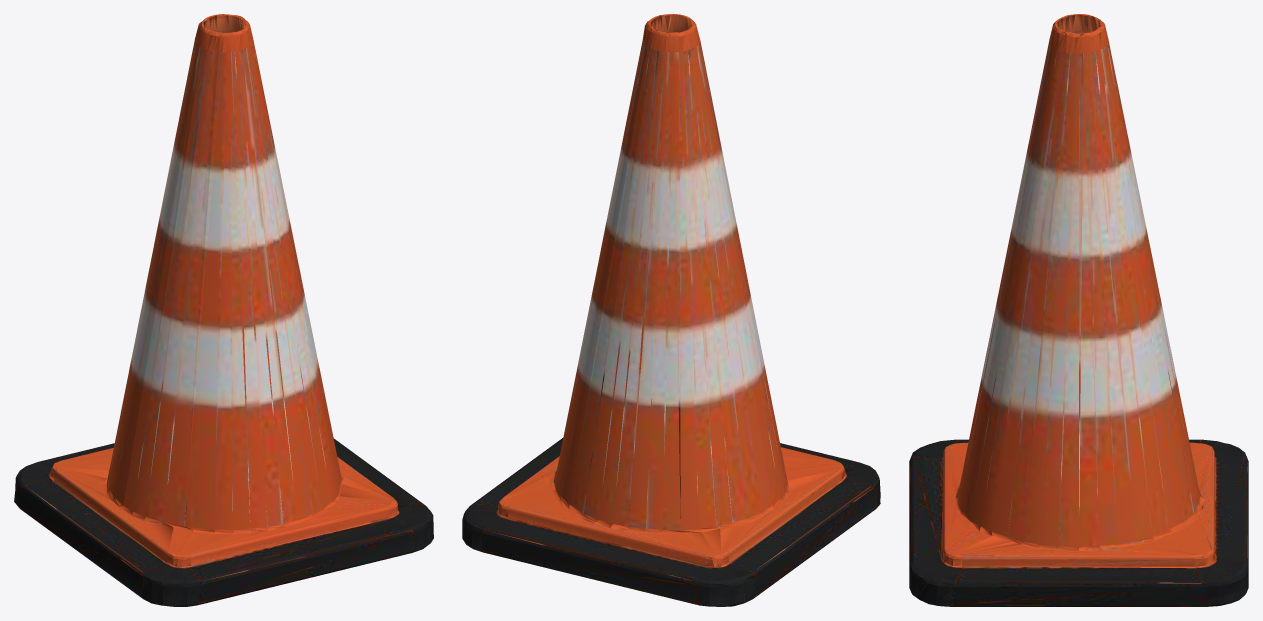
The picture shows the model from 3 angles, left to right: view 1: azimuth 30°, elevation 25°; view 2: azimuth 150°, elevation 25°; view 3: azimuth 270°, elevation 25°; orthographic projection. The views are drawn at different scales.
Visible parts, largest first — view 1: Prop_cone_a; view 2: Prop_cone_a; view 3: Prop_cone_a.
Part boxes in pixels (x1=…): Prop_cone_a: x1=14, y1=14, x2=433, y2=606; Prop_cone_a: x1=462, y1=14, x2=880, y2=606; Prop_cone_a: x1=909, y1=14, x2=1248, y2=606.
Bounding box in the file's own units: 0.4 × 0.6617 × 0.3973.
1 material, 1 textured.
